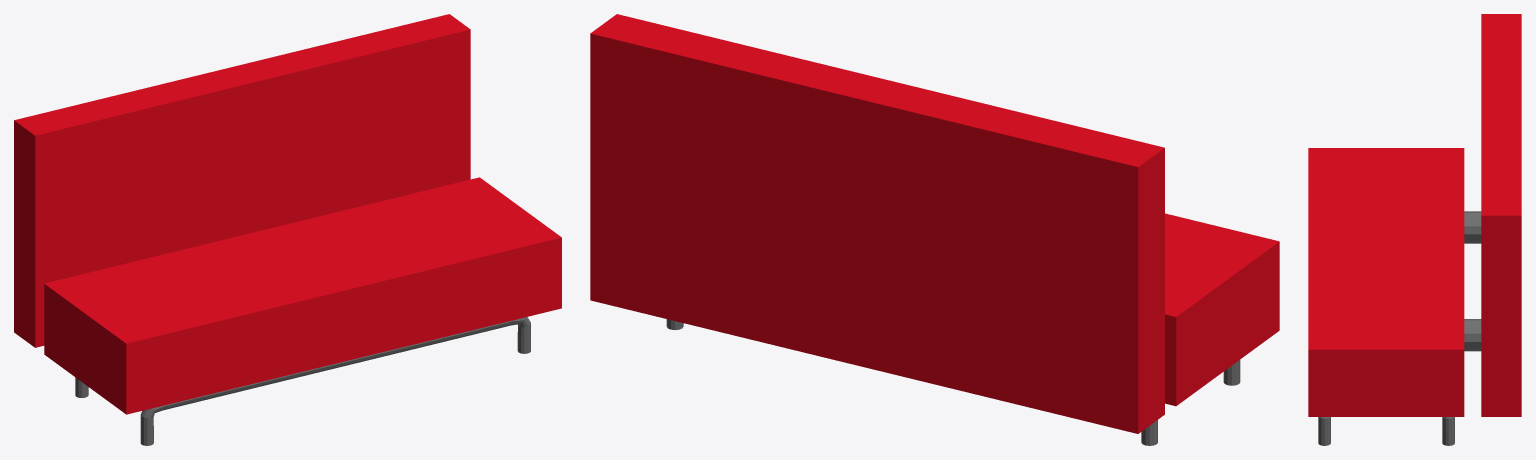
File: Banco.fbx
3 renders of one model, left to right at view 1: azimuth 30°, elevation 25°; view 2: azimuth 150°, elevation 25°; view 3: azimuth 270°, elevation 25°, orthographic. The views are drawn at different scales.
Visible parts, largest first — view 1: Banquit, Banquito_1, Patas_Banco; view 2: Banquit, Banquito_1, Patas_Banco; view 3: Banquito_1, Banquit, Union_Banco, Patas_Banco.
Part boxes in pixels (left/top/right/bottom): Banquit: left=14, top=14, right=470, bottom=347; Banquito_1: left=44, top=177, right=561, bottom=414; Patas_Banco: left=75, top=317, right=530, bottom=445; Banquit: left=590, top=14, right=1164, bottom=433; Banquito_1: left=1165, top=213, right=1279, bottom=406; Patas_Banco: left=666, top=319, right=1240, bottom=445; Banquito_1: left=1308, top=148, right=1464, bottom=416; Banquit: left=1481, top=14, right=1521, bottom=416; Union_Banco: left=1464, top=211, right=1481, bottom=351; Patas_Banco: left=1318, top=417, right=1454, bottom=445.
Bounding box in the file's own units: 200 × 111 × 89.41.
